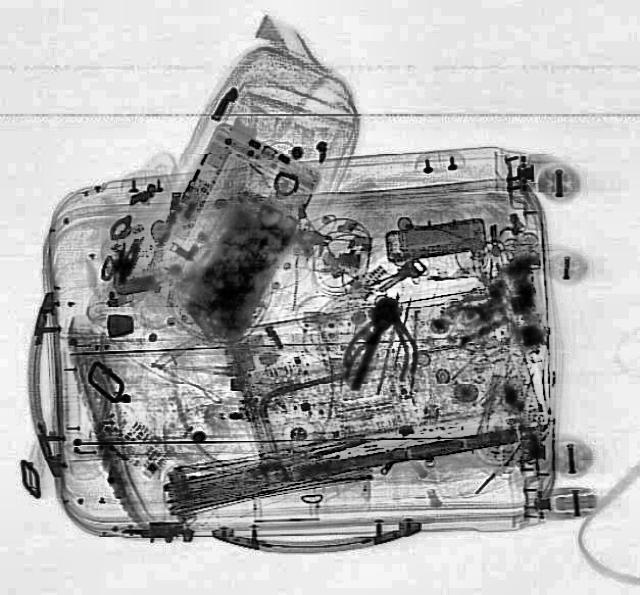Pliers: (341, 297, 421, 384), (340, 300, 422, 382)
